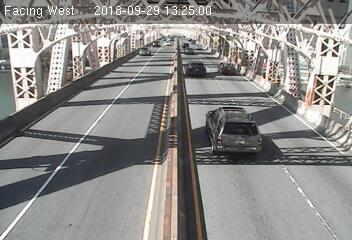car: (200, 107, 268, 161), (183, 60, 212, 79), (217, 60, 236, 76), (138, 47, 152, 58), (149, 38, 161, 48), (183, 46, 197, 54)
